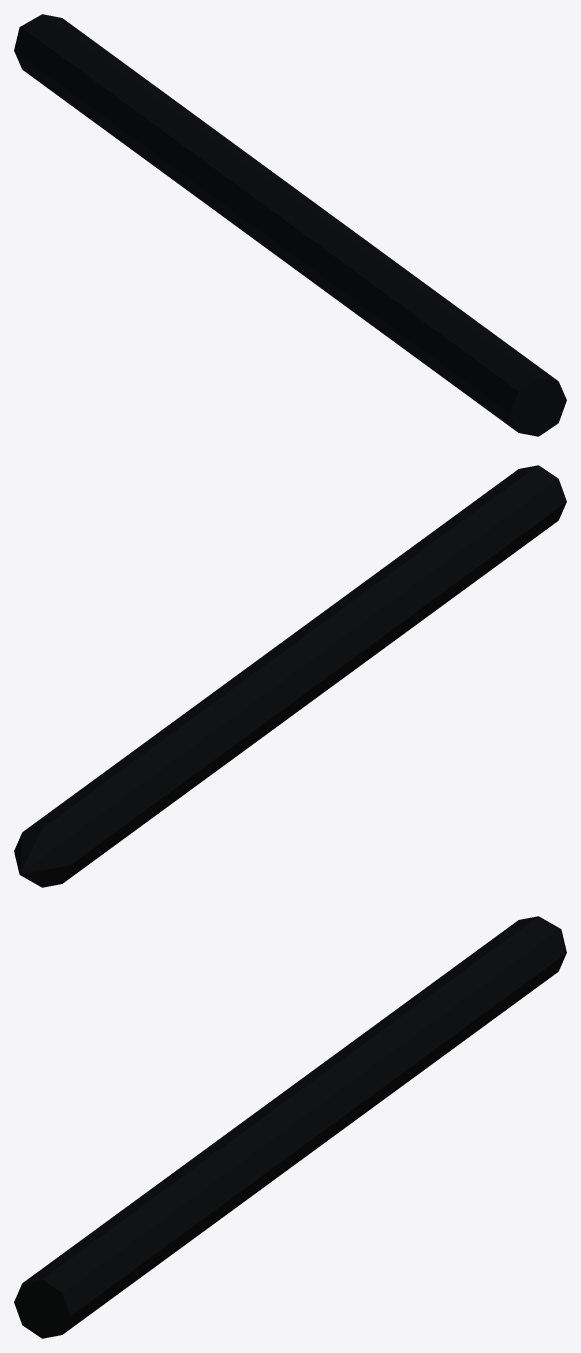
Rendered from Rocket80Twenty__Round_11.obj.
3 renders of one model, top to bottom at view 1: azimuth 30°, elevation 25°; view 2: azimuth 150°, elevation 25°; view 3: azimuth 330°, elevation 25°, orthographic.
Parts seen in each view (by area): view 1: Round_11; view 2: Round_11; view 3: Round_11.
Part boxes in pixels (<box>): Round_11: <box>14,14,566,436</box>; Round_11: <box>14,465,566,887</box>; Round_11: <box>14,916,566,1338</box>.
Size of the model in its own units: 0.0935 by 0.0935 by 1.49.
